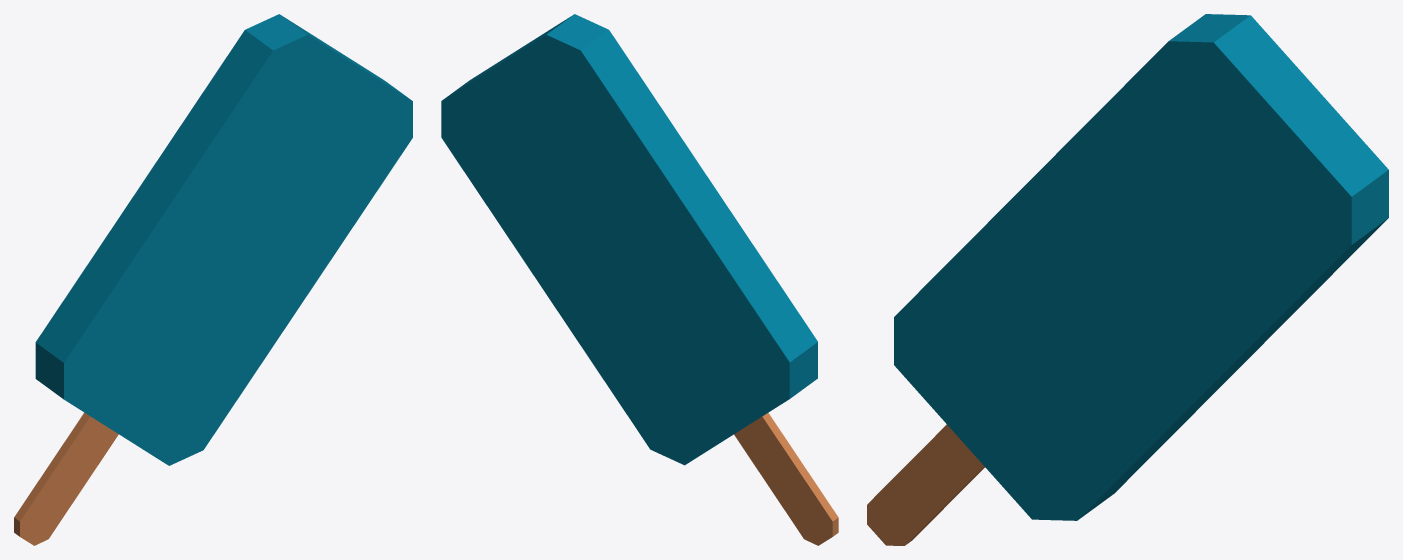
File: ice_cream.fbx
The picture shows the model from 3 angles, left to right: view 1: azimuth 30°, elevation 25°; view 2: azimuth 150°, elevation 25°; view 3: azimuth 330°, elevation 25°; orthographic projection. The views are drawn at different scales.
Visible parts, largest first — view 1: ice_cream; view 2: ice_cream; view 3: ice_cream.
Boxes of the visible parts, x1=… form: ice_cream: x1=14, y1=14, x2=412, y2=545; ice_cream: x1=441, y1=14, x2=838, y2=545; ice_cream: x1=867, y1=14, x2=1388, y2=545.
Size of the model in its own units: 290 by 332 by 37.4.
Materials: 1 (1 with a texture image).
